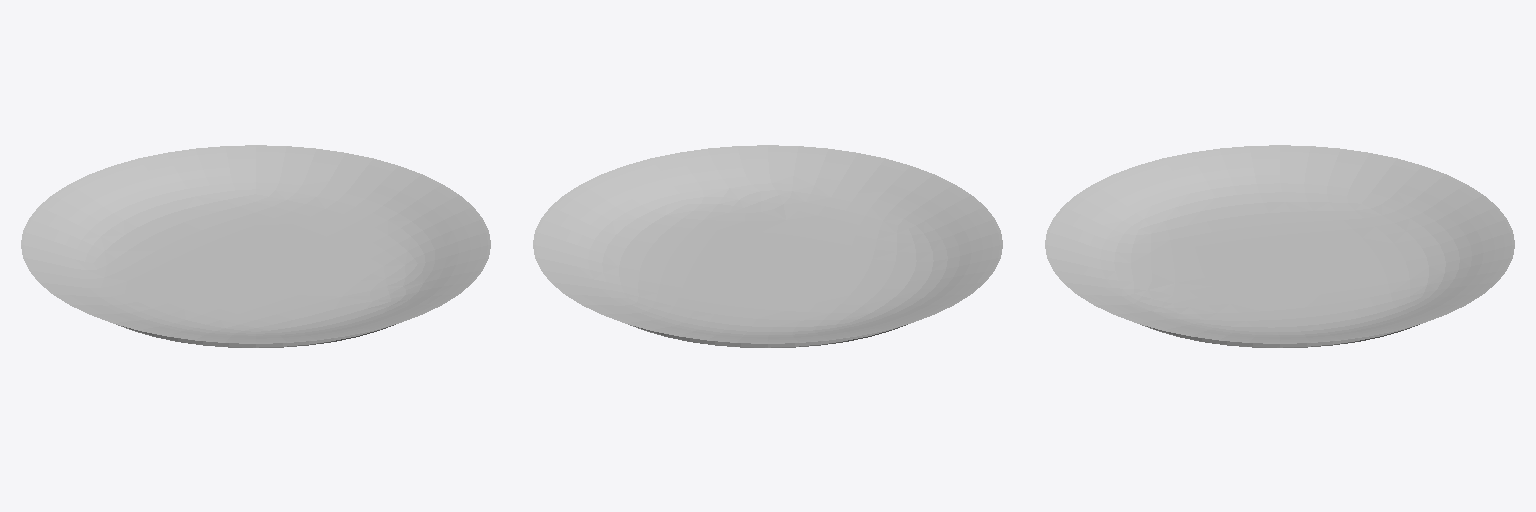
Rendered from Pratos.obj.
The picture shows the model from 3 angles: view 1: azimuth 30°, elevation 25°; view 2: azimuth 150°, elevation 25°; view 3: azimuth 270°, elevation 25°; orthographic projection.
Parts seen in each view (by area): view 1: Plato:Plato; view 2: Plato:Plato; view 3: Plato:Plato.
Part boxes in pixels (x1,y1,x2,y2): Plato:Plato: (21, 145, 490, 347); Plato:Plato: (533, 145, 1002, 347); Plato:Plato: (1045, 145, 1514, 347).
Size of the model in its own units: 0.8253 by 0.0442 by 0.8253.